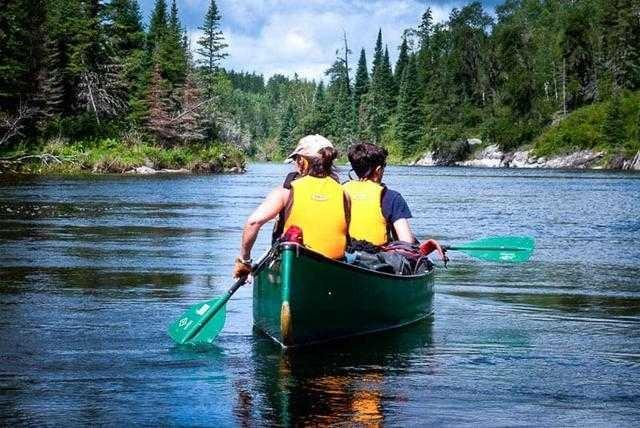kayak: (251, 241, 436, 351)
